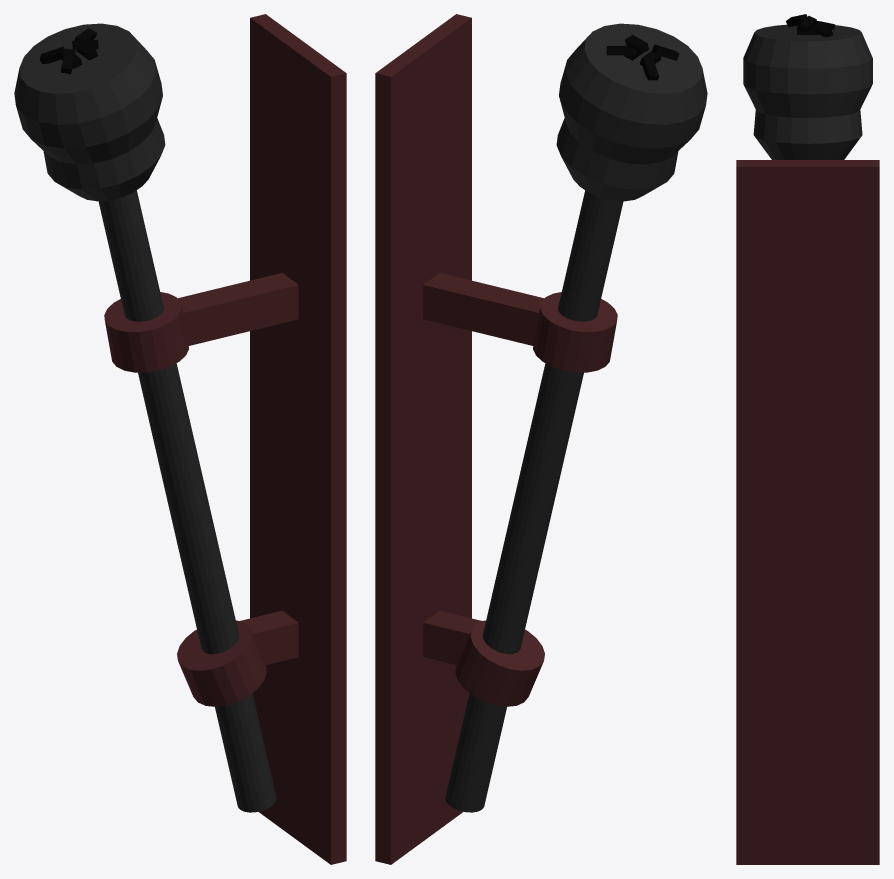
Rendered from wall torches.fbx.
3 renders of one model, left to right at view 1: azimuth 30°, elevation 25°; view 2: azimuth 150°, elevation 25°; view 3: azimuth 270°, elevation 25°, orthographic. The views are drawn at different scales.
Parts seen in each view (by area): view 1: 立方体; view 2: 立方体; view 3: 立方体.
Part boxes in pixels (x1=…): 立方体: x1=14, y1=14, x2=346, y2=864; 立方体: x1=375, y1=14, x2=707, y2=864; 立方体: x1=736, y1=14, x2=879, y2=864.
Bounding box in the file's own units: 130 × 372 × 64.6.
